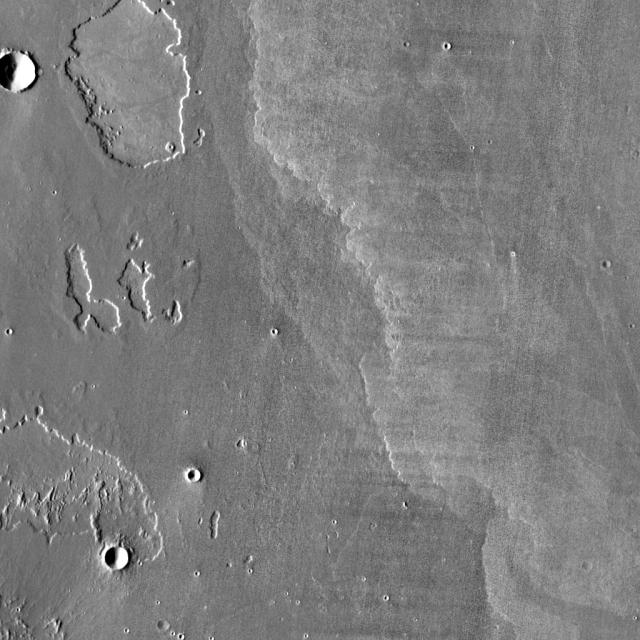crater: (0, 53, 39, 91), (104, 545, 129, 569), (186, 468, 199, 481), (163, 618, 175, 630), (587, 560, 596, 569), (604, 262, 612, 272), (38, 67, 46, 74), (238, 439, 245, 446), (2, 321, 10, 327)
